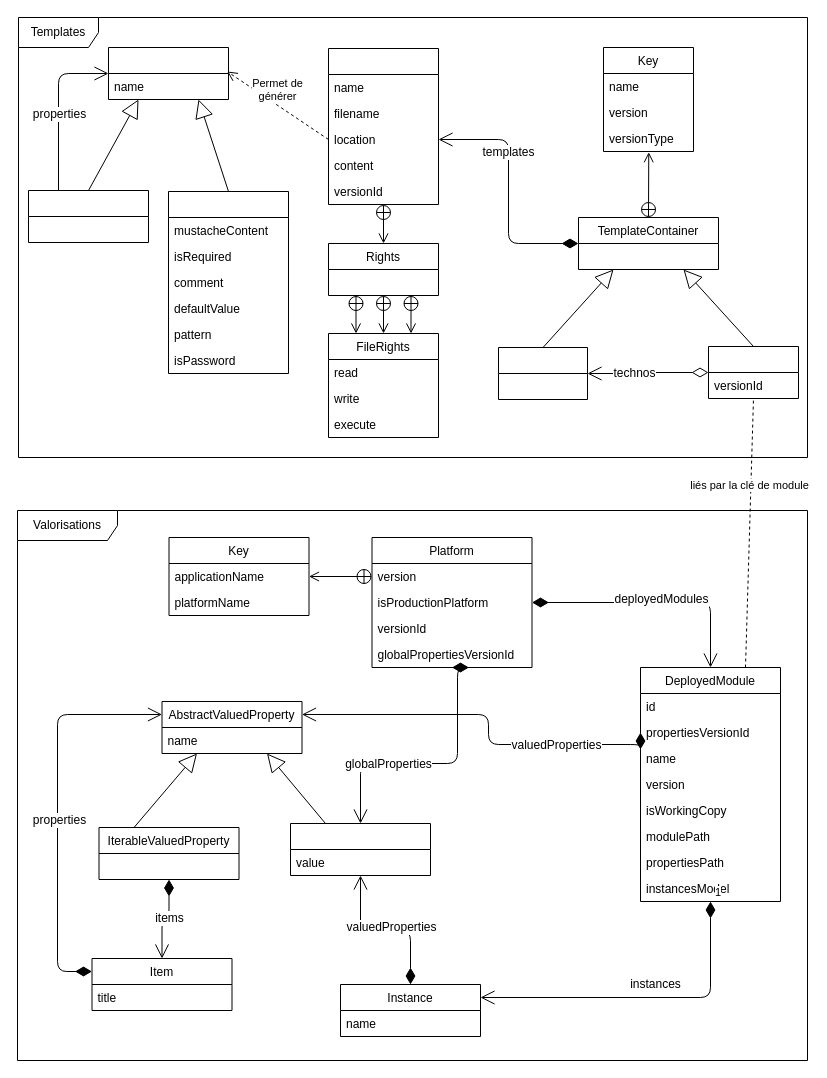
Some shapes in this 827 by 1078 pixel diagram are drawn without their labels. The shapes that lost their labels are listed below. From the top down, each one's box as (x1, y1, x2, y2) in pixels, then its label:
(108, 46, 228, 100): AbstractProperty
(328, 48, 438, 204): Template
(28, 190, 148, 242): IterableProperty
(168, 190, 288, 374): Property
(498, 346, 588, 400): Techno
(708, 346, 798, 398): Module
(290, 822, 430, 876): ValuedProperty
